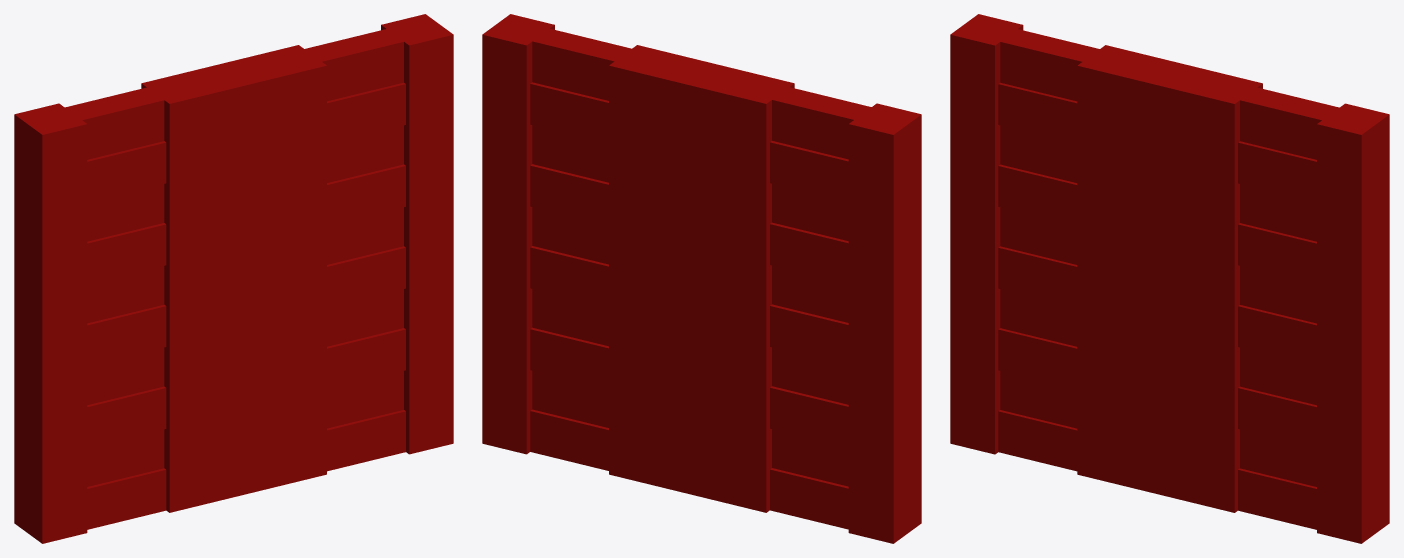
File: GIMM370 Gates Red.fbx
3 views of the same model, side by side, from view 1: azimuth 30°, elevation 25°; view 2: azimuth 150°, elevation 25°; view 3: azimuth 330°, elevation 25° (orthographic).
Parts seen in each view (by area): view 1: Cube; view 2: Cube; view 3: Cube.
Boxes of the visible parts, x1,y1,x2,y2 form: Cube: [14, 14, 453, 543]; Cube: [482, 14, 921, 543]; Cube: [950, 14, 1389, 543].
Bounding box in the file's own units: 1332 × 1265 × 158.
